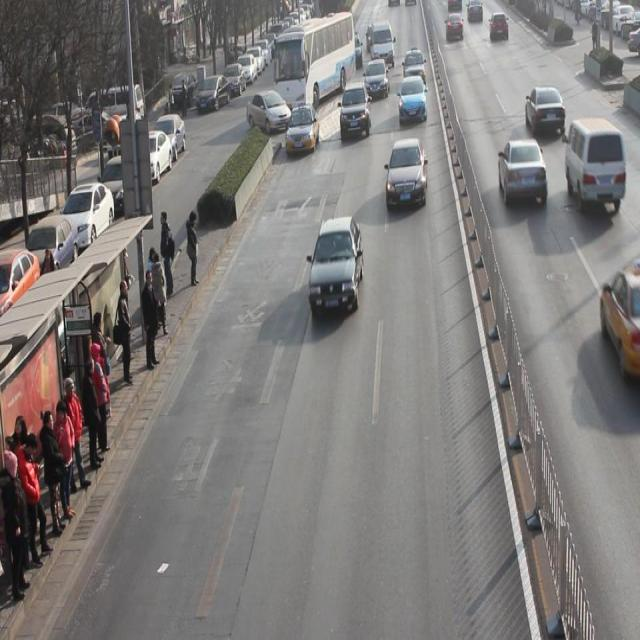car: (309, 216, 364, 315), (602, 266, 640, 382), (499, 140, 548, 208), (387, 138, 428, 213), (246, 90, 294, 136), (526, 87, 566, 141), (286, 104, 320, 159), (341, 82, 372, 142), (399, 75, 428, 126), (365, 60, 390, 102), (403, 48, 427, 89)
truck: (566, 119, 627, 215), (370, 22, 395, 69)
van: (273, 14, 355, 116)
